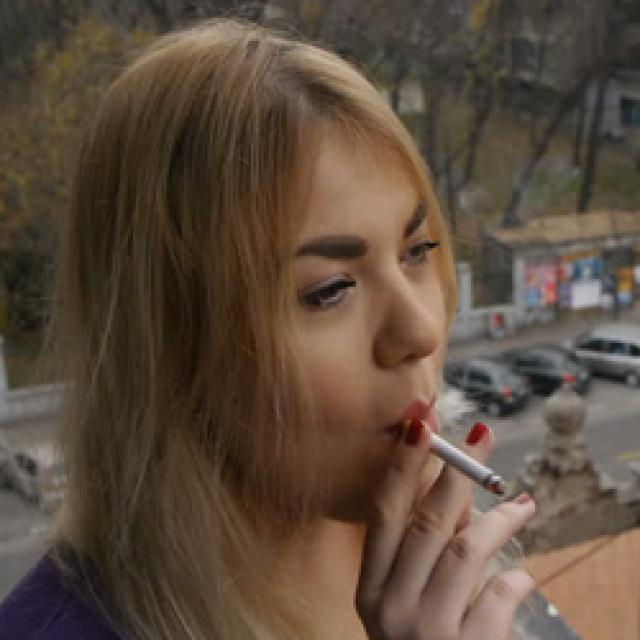Smooking: (414, 422, 516, 498)
